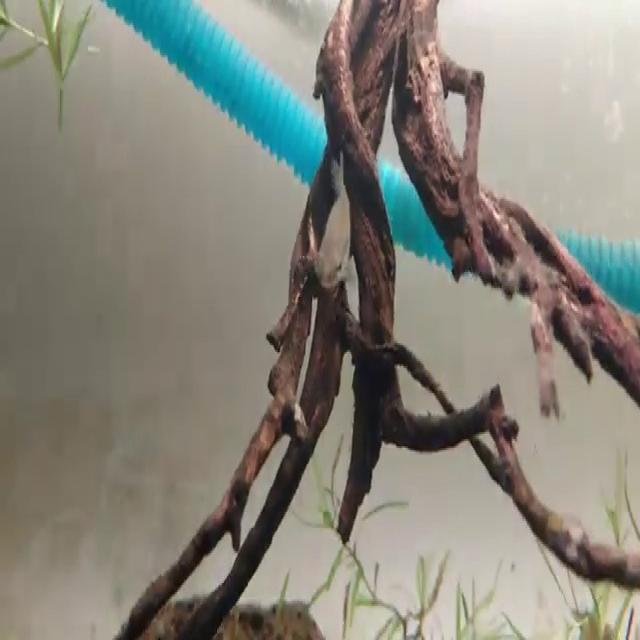Cakil Baligi: (314, 145, 354, 300)
